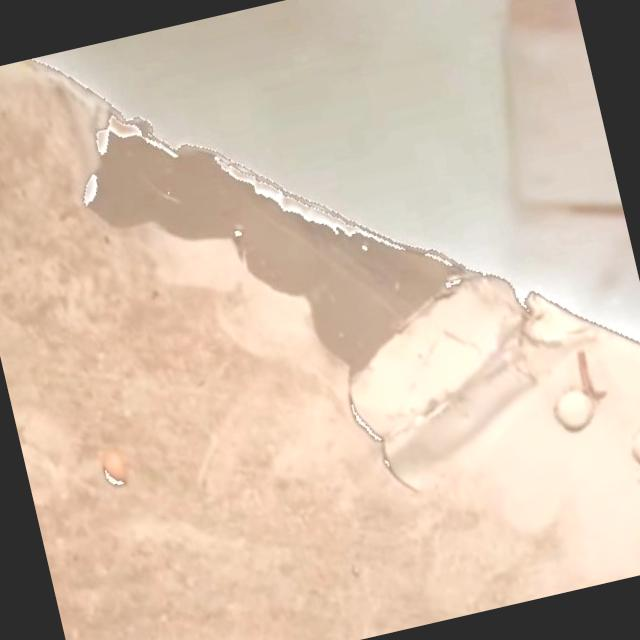crack: (330, 397, 422, 512)
